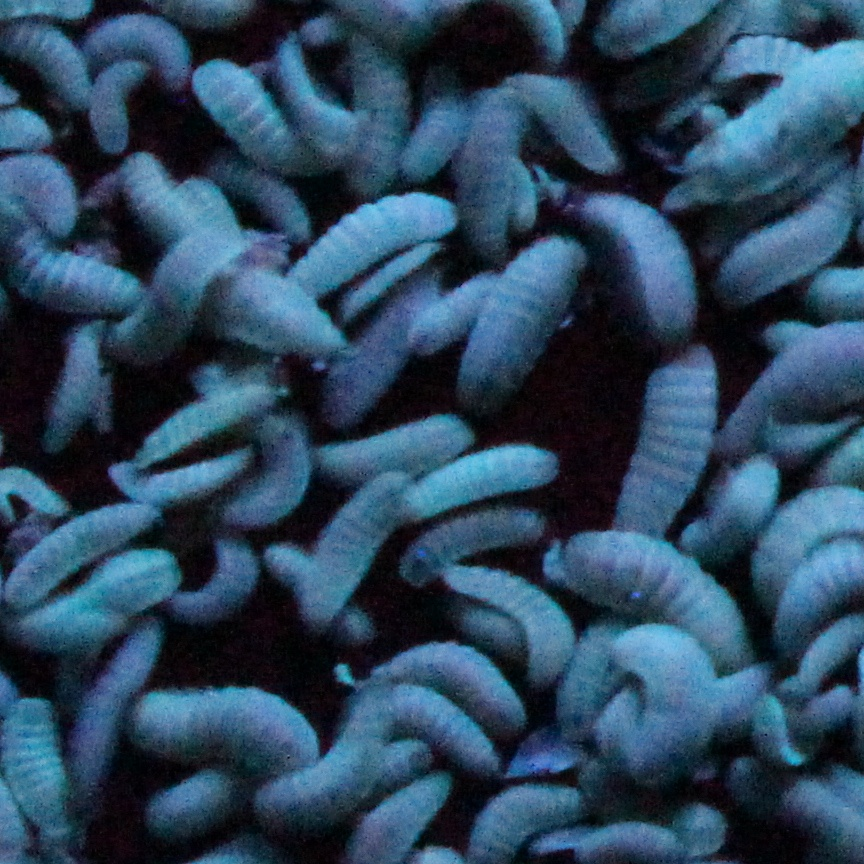larve: (564, 530, 767, 665), (250, 684, 397, 825), (622, 346, 724, 539), (464, 230, 579, 401), (721, 166, 862, 296), (131, 687, 329, 777), (298, 472, 412, 628), (583, 192, 707, 335), (109, 230, 259, 348), (617, 628, 721, 782), (295, 194, 460, 289), (195, 59, 319, 175), (5, 503, 153, 599), (376, 678, 505, 777), (134, 385, 284, 463), (9, 692, 83, 846), (398, 508, 552, 578), (7, 232, 135, 314), (344, 37, 412, 186), (469, 87, 524, 270), (414, 442, 560, 509), (83, 3, 190, 92), (522, 76, 611, 173), (226, 415, 307, 520), (44, 317, 106, 453), (176, 537, 252, 616)
